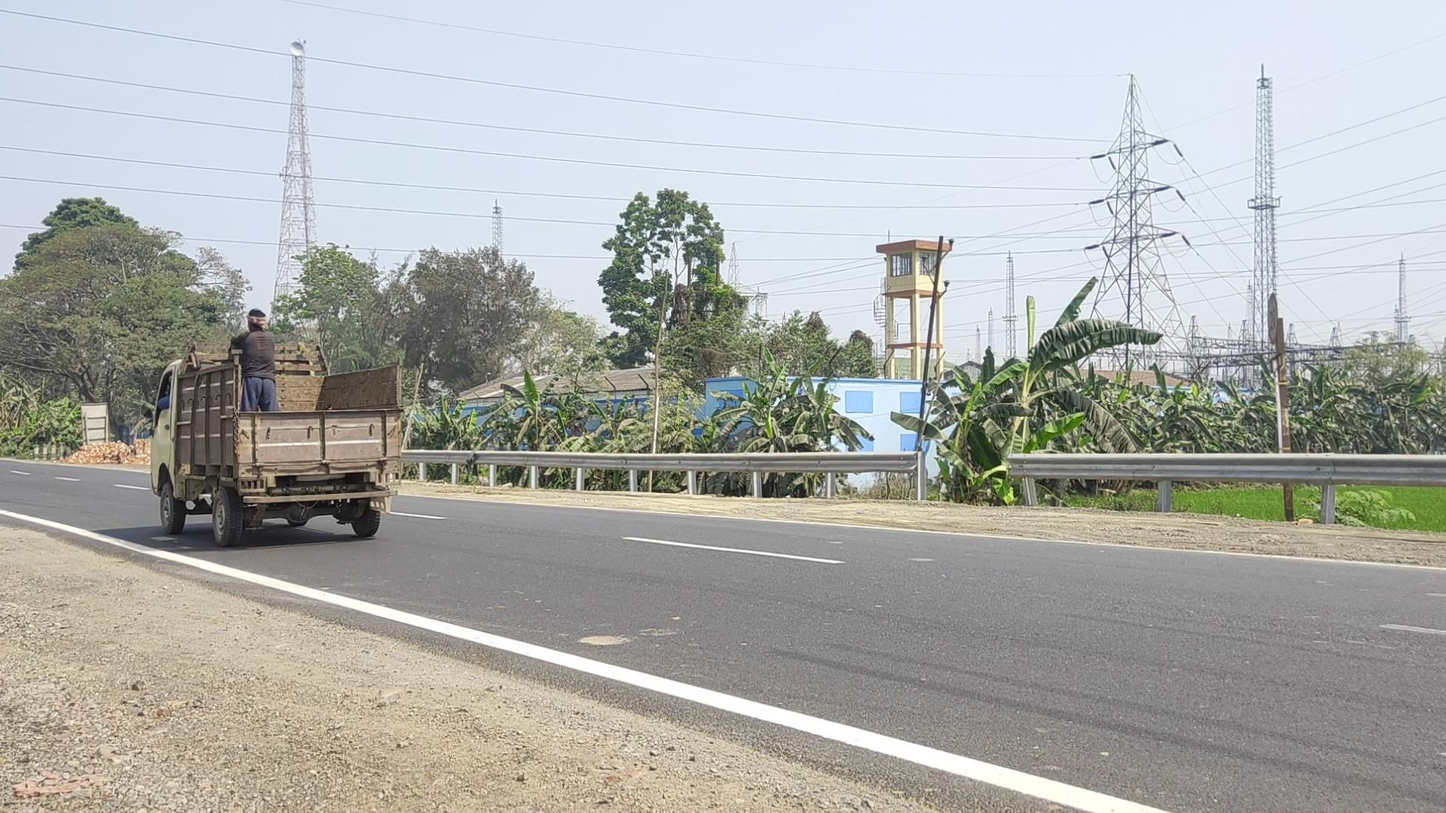van: (142, 309, 405, 548)
